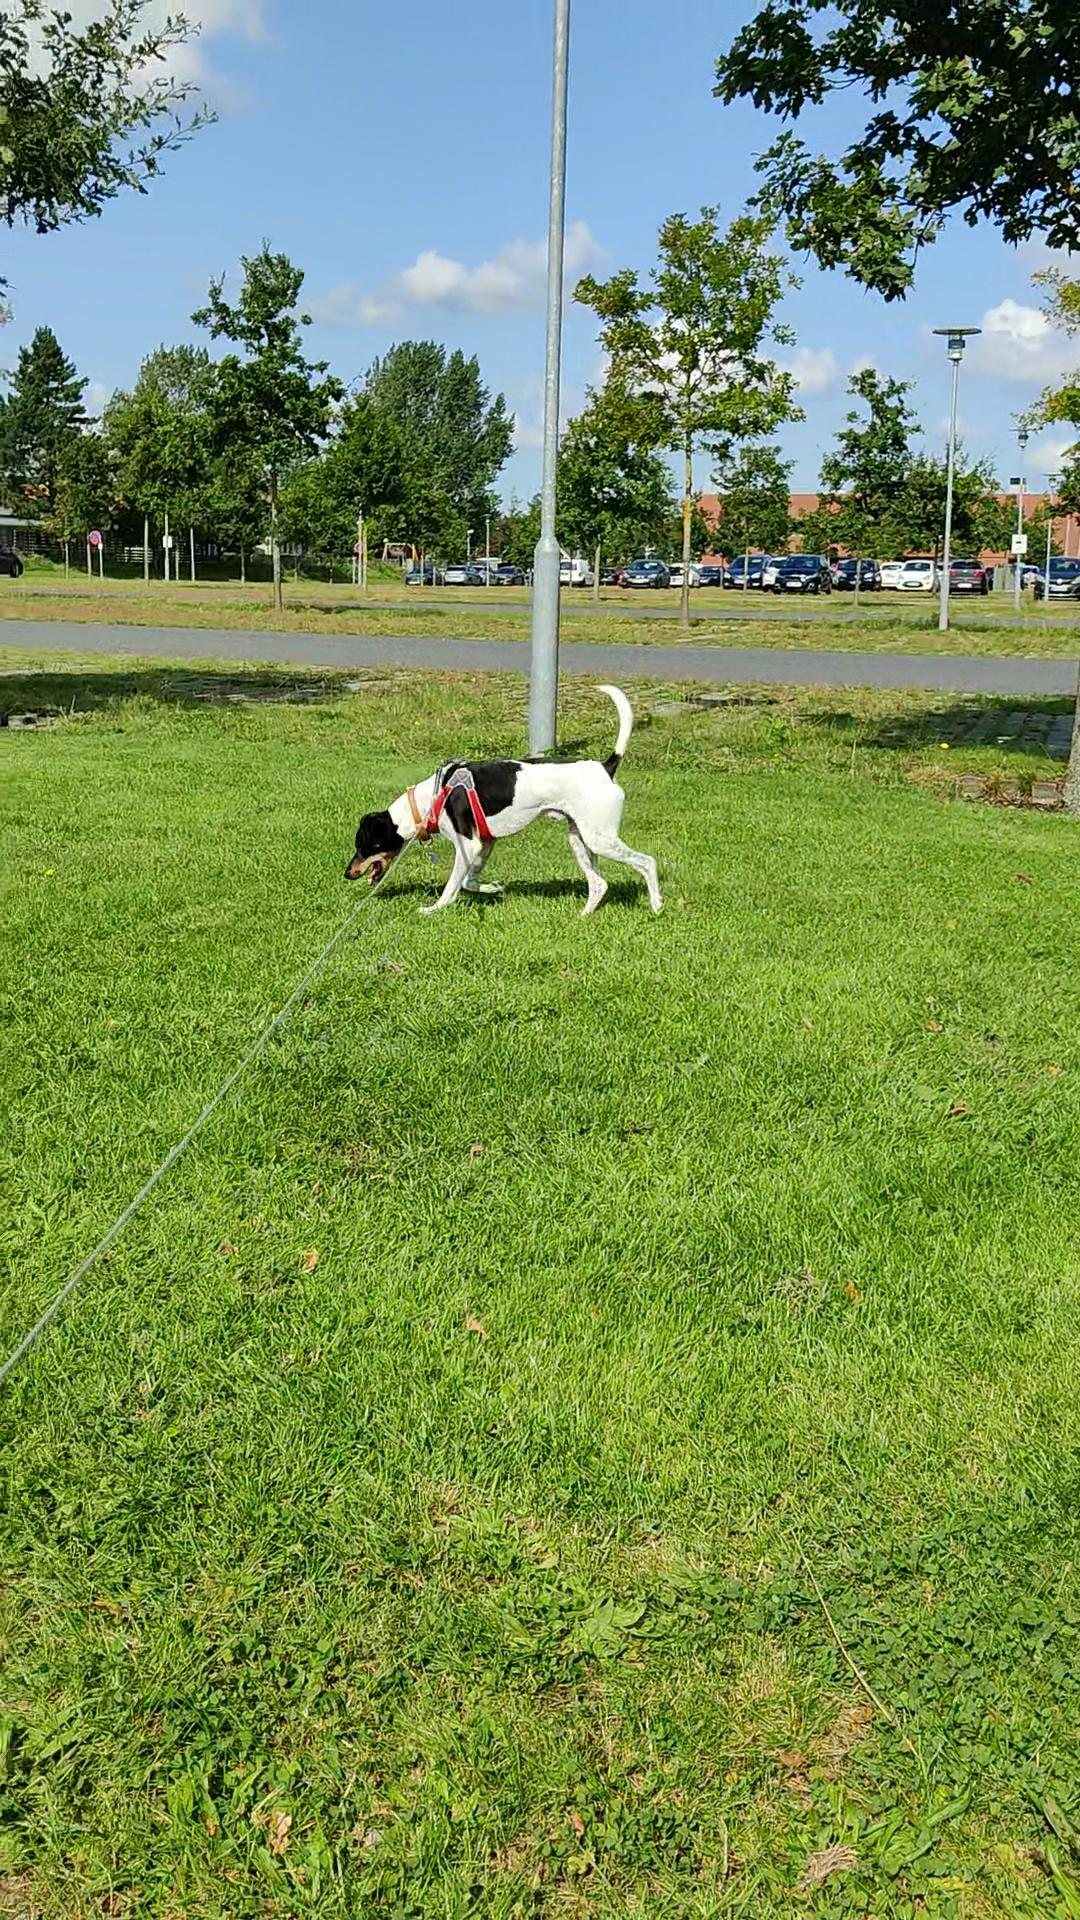Dog: (339, 680, 665, 920)
